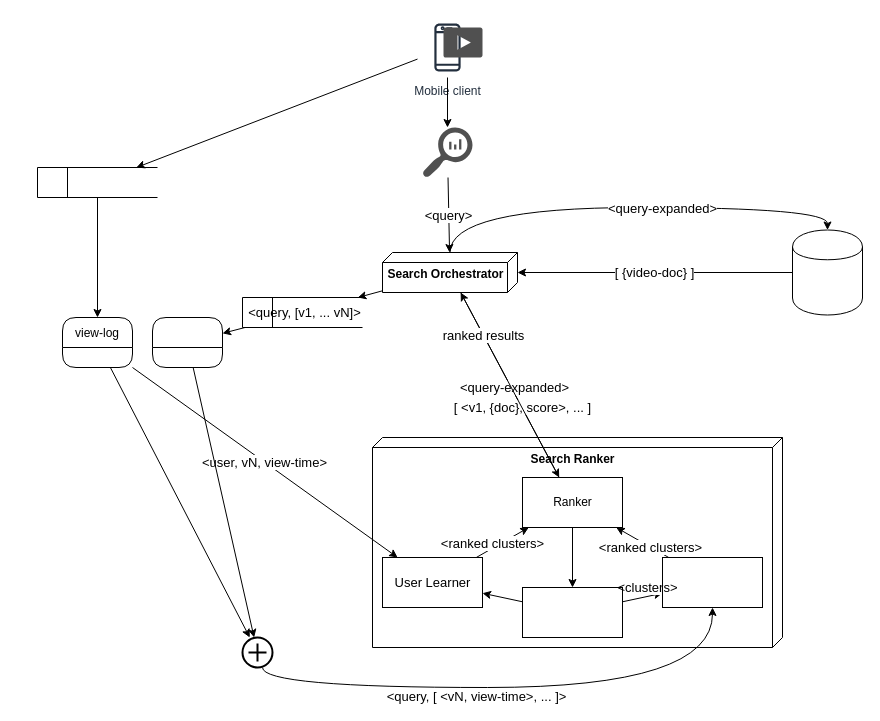
This 880x721 diagram has some shape labels left out. Here are the shapes that lost their labels. From the top down, the centre of each, then its label:
[97,182]: <user, query, vX, view-time>
[187,342]: query-log
[712,582]: Dwell Learner
[572,612]: Cluster Learner
